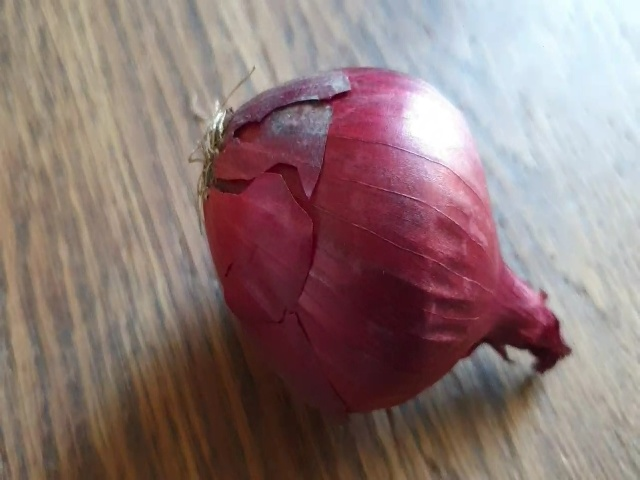red_onion: (187, 60, 579, 424)
